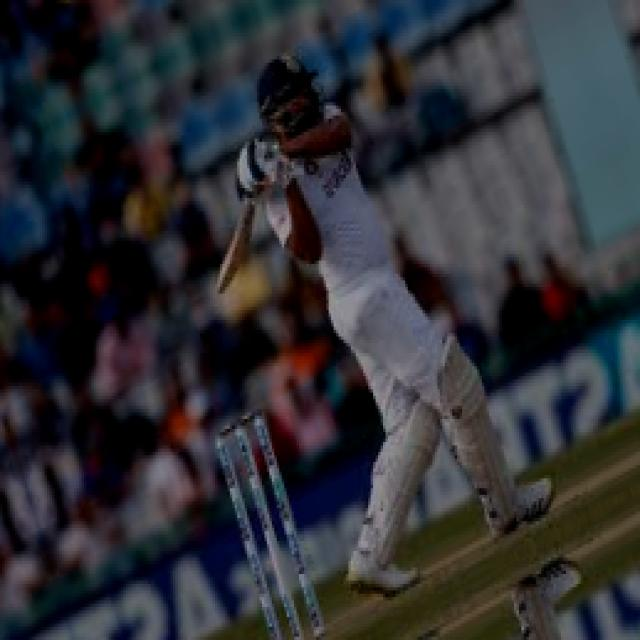toe: (210, 266, 232, 296)
